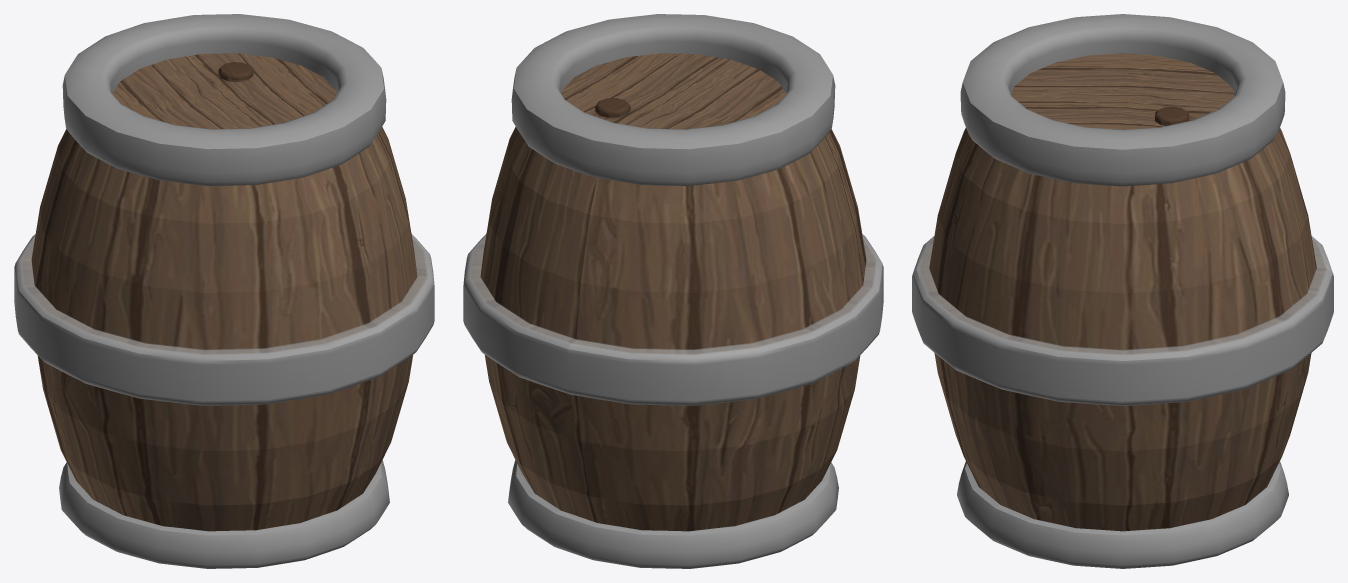
The model's file is Barrel_F.fbx.
The picture shows the model from 3 angles, left to right: view 1: azimuth 30°, elevation 25°; view 2: azimuth 150°, elevation 25°; view 3: azimuth 270°, elevation 25°; orthographic projection.
Visible parts, largest first — view 1: pCylinder1; view 2: pCylinder1; view 3: pCylinder1.
Boxes of the visible parts, <box> form: pCylinder1: <box>14,14,434,568</box>; pCylinder1: <box>463,14,883,568</box>; pCylinder1: <box>912,14,1333,568</box>.
Bounding box in the file's own units: 6.33 × 7.09 × 6.33.
